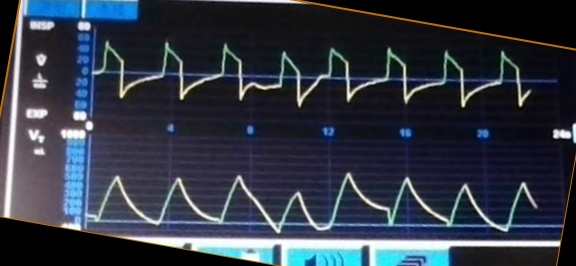Premature_cycling Flow: (95, 38, 525, 110)
Premature_cycling Volume: (91, 154, 536, 233)
